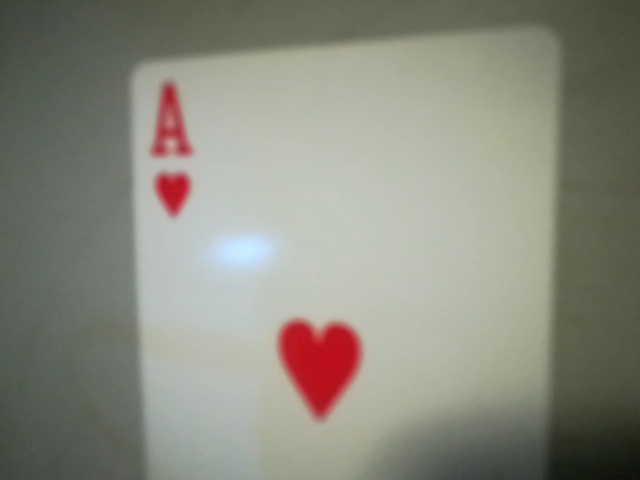hx a: (127, 70, 215, 236)
